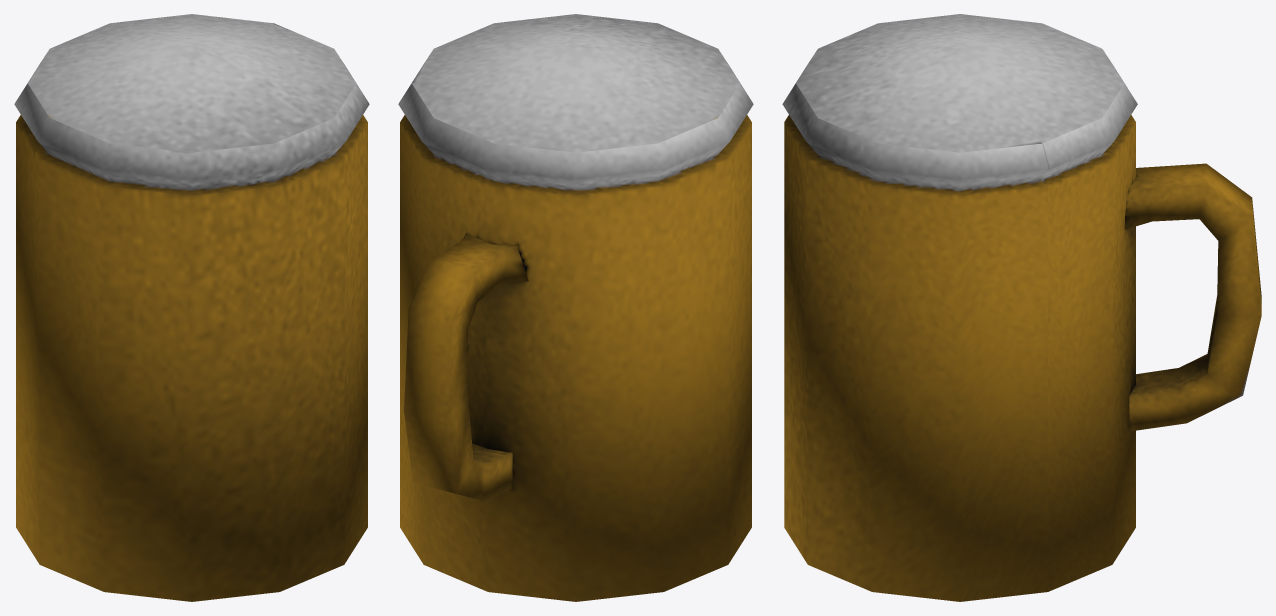
The model's file is beer.fbx.
The picture shows the model from 3 angles, left to right: view 1: azimuth 30°, elevation 25°; view 2: azimuth 150°, elevation 25°; view 3: azimuth 270°, elevation 25°; orthographic projection.
Parts seen in each view (by area): view 1: kazgar_skin_001; view 2: kazgar_skin_001; view 3: kazgar_skin_001.
Part boxes in pixels (x1,y1,x2,y2): kazgar_skin_001: [14, 14, 369, 601]; kazgar_skin_001: [398, 14, 753, 601]; kazgar_skin_001: [782, 14, 1261, 601].
Size of the model in its own units: 0.896 by 1.34 by 1.21.
Materials: 1 (1 with a texture image).
